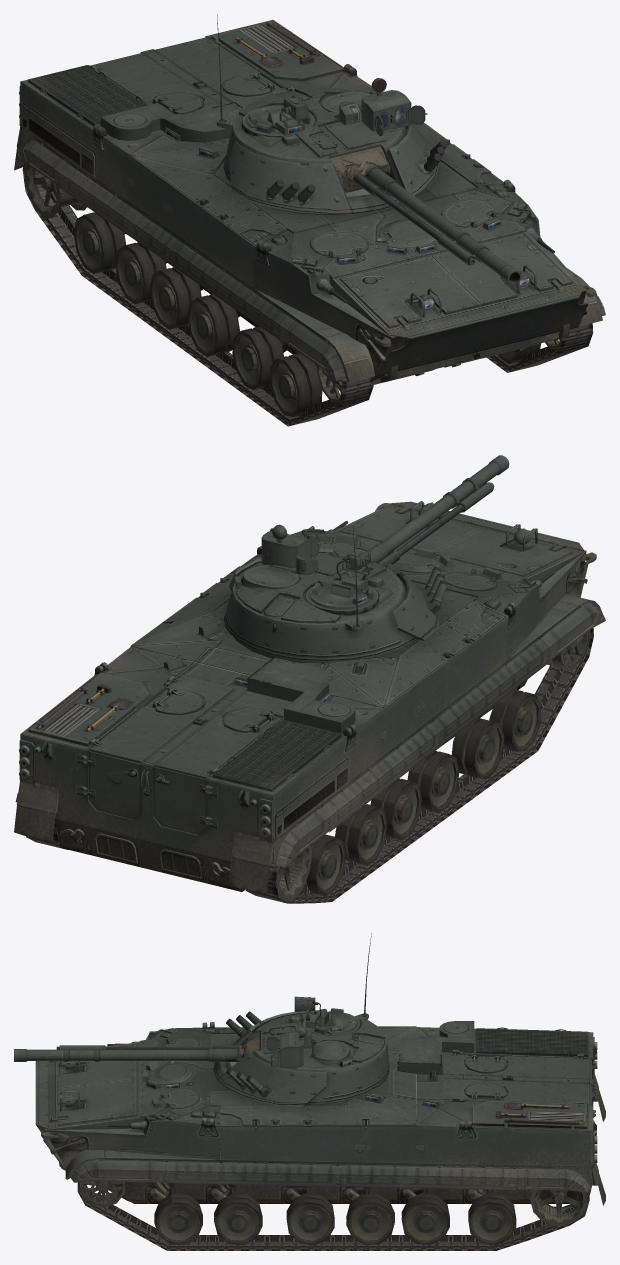
Rendered from bmp3m.glb.
3 views of the same model, one above another, from view 1: azimuth 30°, elevation 25°; view 2: azimuth 150°, elevation 25°; view 3: azimuth 270°, elevation 25° (orthographic). The views are drawn at different scales.
Visible parts, largest first — view 1: Body, Turret; view 2: Body, Turret; view 3: Body, Turret.
Part boxes in pixels (box(x1,y1,x2,y2)): Body: box(14, 20, 605, 426); Turret: box(216, 14, 521, 285); Body: box(14, 501, 605, 903); Turret: box(223, 455, 509, 662); Body: box(35, 1021, 605, 1250); Turret: box(14, 933, 389, 1107).
Size of the model in its own units: 3.13 by 3.37 by 7.42.
Materials: 10 (10 with a texture image).
